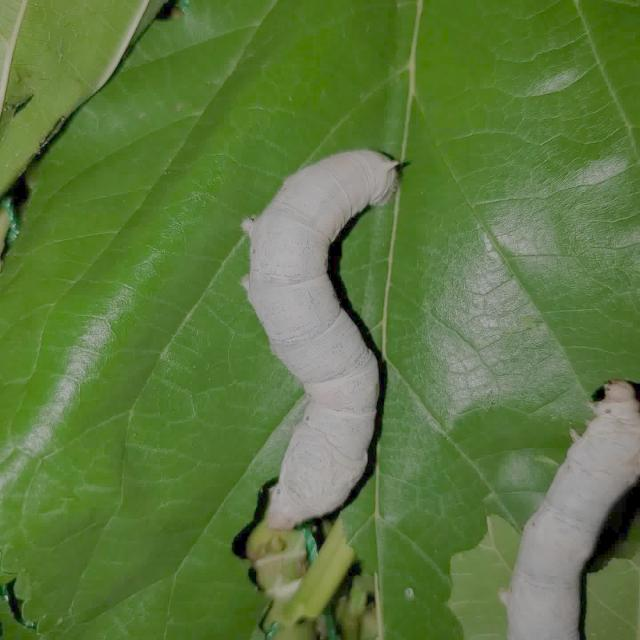Healthy: (236, 135, 414, 531)
